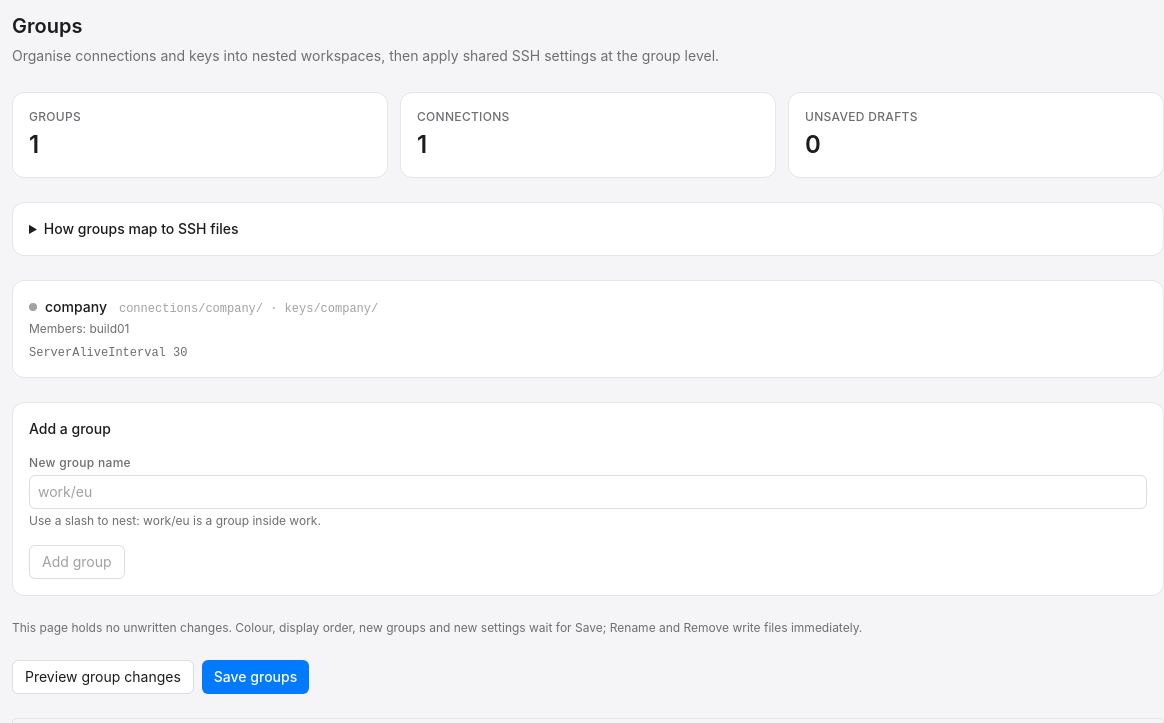
Scenario: GroupsPanel › refuses a name that is not a safe relative directory
This screenshot has width=1164, height=723.
Type "../escape" into the field labelled "New group name" at (588, 492), box [29,475,1147,509]
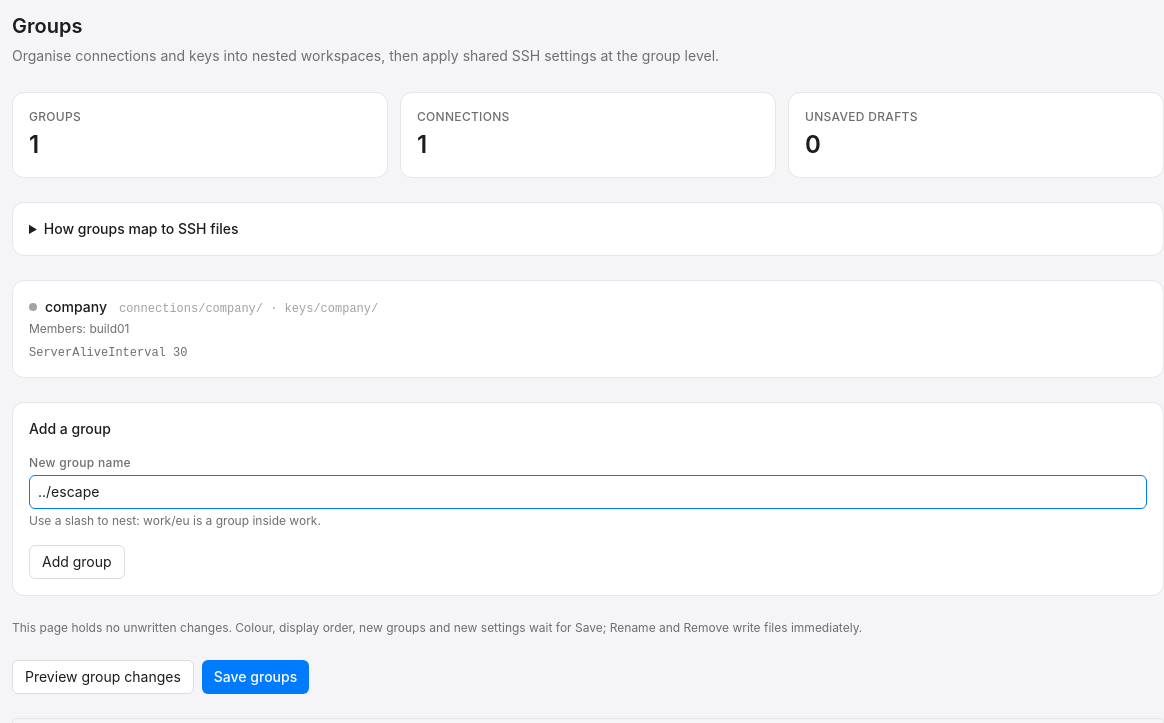
Click the button "Add group" at (77, 562), box [29,545,125,579]
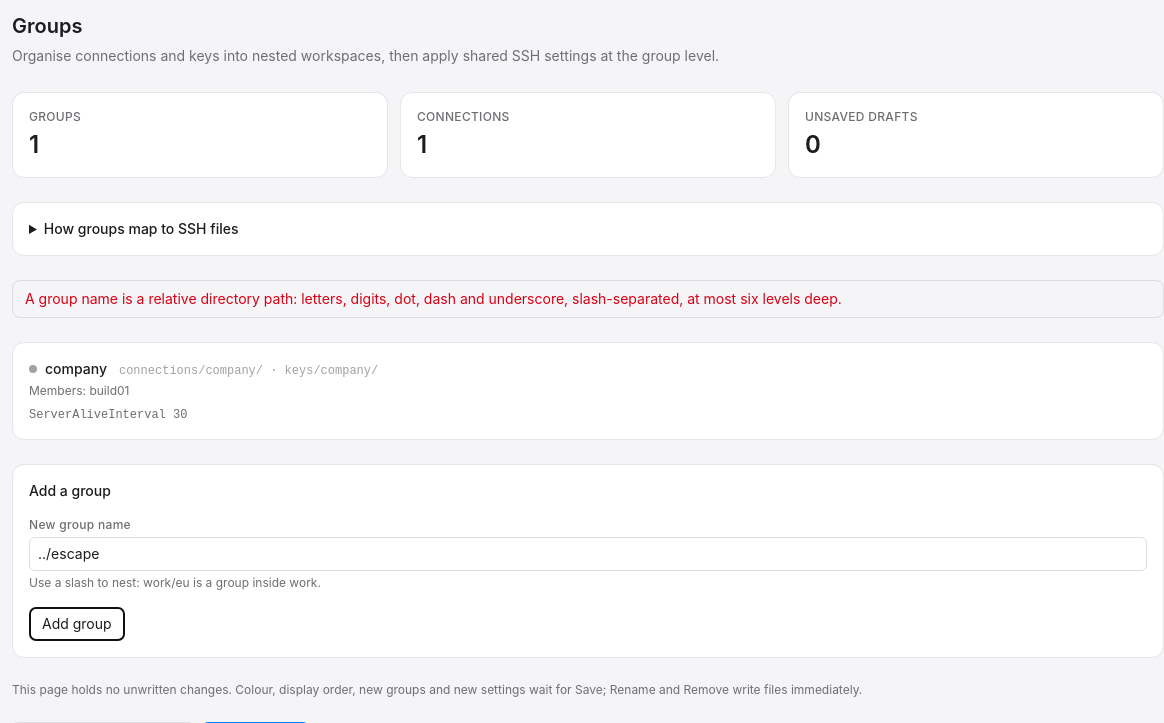
Expected: the message shows "relative directory path", [25,290,842,307]
